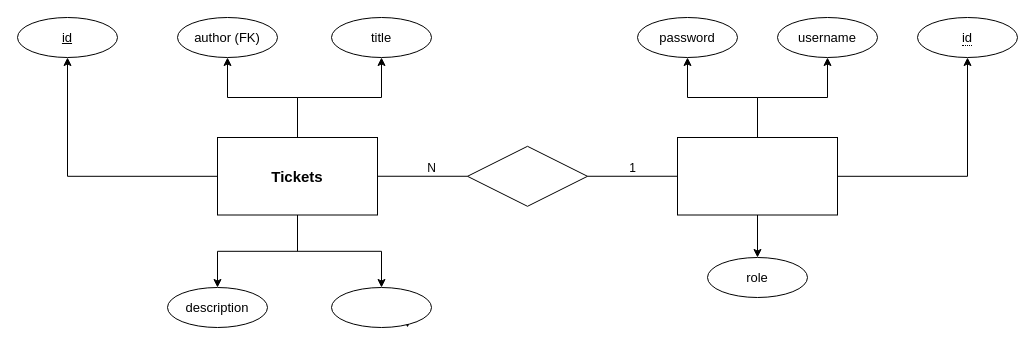
The diagram is 1035 pixels wide and 353 high, and some of its shapes have lost their labels. The centre of each missing label's shape, as x and y in pixels:
"Creates" belongs at (527,175).
"date" belongs at (381,307).
"Users" belongs at (757,175).
